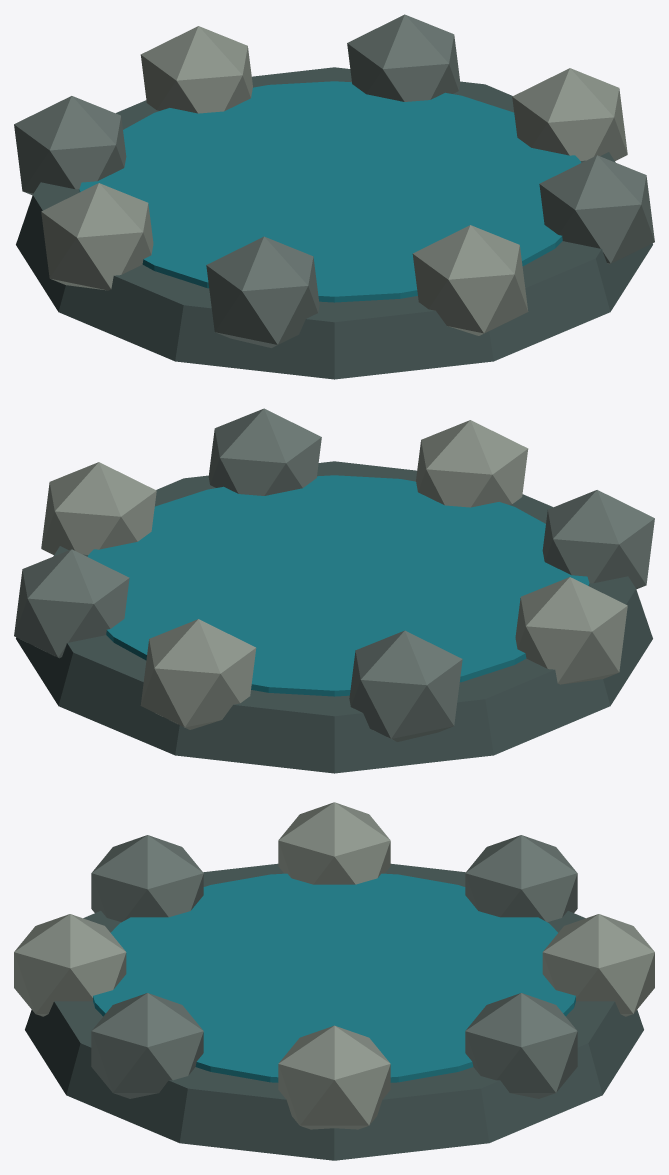
Rendered from PirateCove_TidePoolRocks_Simple.glb.
3 renders of one model, top to bottom at view 1: azimuth 30°, elevation 25°; view 2: azimuth 150°, elevation 25°; view 3: azimuth 270°, elevation 25°, orthographic. The views are drawn at different scales.
Visible parts, largest first — view 1: PirateCove_TidePoolRocks_Simple; view 2: PirateCove_TidePoolRocks_Simple; view 3: PirateCove_TidePoolRocks_Simple.
Boxes of the visible parts, <box> form: PirateCove_TidePoolRocks_Simple: <box>14,14,654,379</box>; PirateCove_TidePoolRocks_Simple: <box>14,408,654,773</box>; PirateCove_TidePoolRocks_Simple: <box>14,802,654,1160</box>.
Size of the model in its own units: 3.1 by 0.62 by 3.1.
